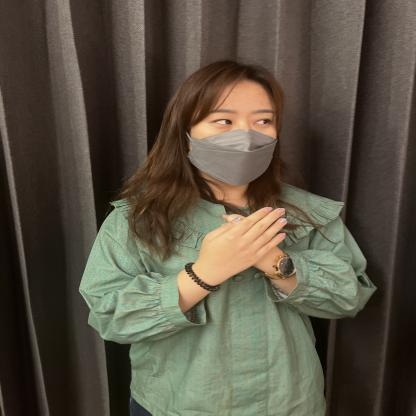Grieve: (60, 164, 363, 318)
